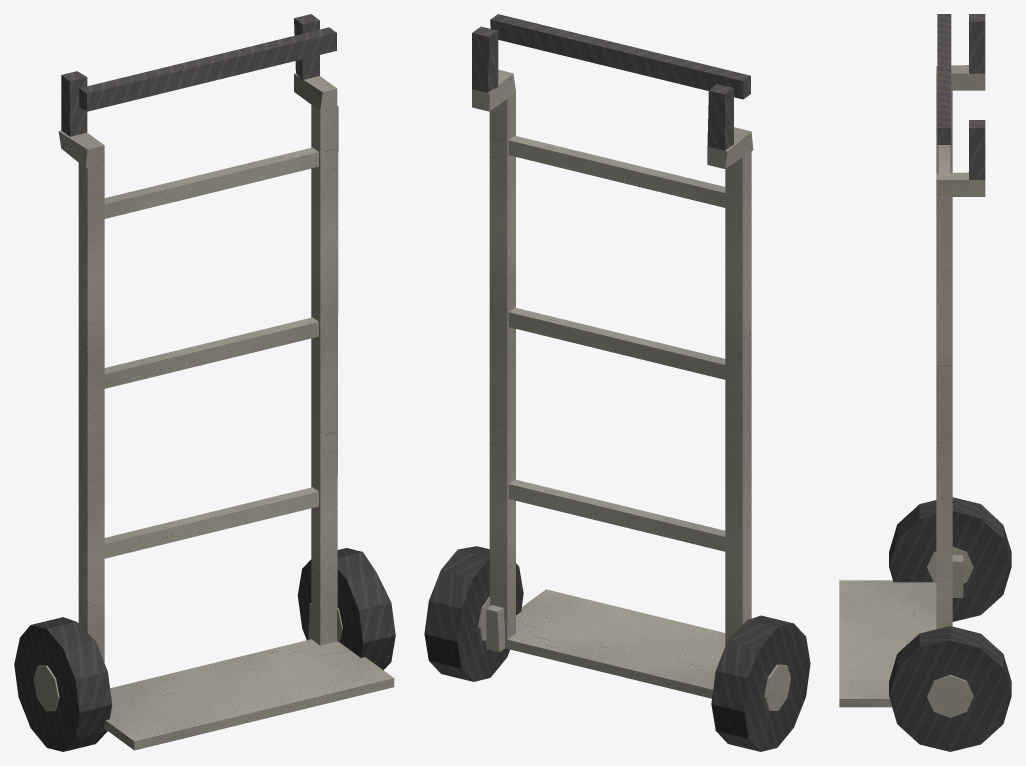
The model's file is handtruck_v2.glb.
3 renders of one model, left to right at view 1: azimuth 30°, elevation 25°; view 2: azimuth 150°, elevation 25°; view 3: azimuth 270°, elevation 25°, orthographic. The views are drawn at different scales.
Parts seen in each view (by area): view 1: Variant_handtruck_2; view 2: Variant_handtruck_2; view 3: Variant_handtruck_2.
Part boxes in pixels (x1,y1,x2,y2): Variant_handtruck_2: [14, 14, 395, 751]; Variant_handtruck_2: [424, 14, 810, 751]; Variant_handtruck_2: [839, 14, 1011, 751].
Size of the model in its own units: 0.588 by 1.15 by 0.295.
3 materials, 3 textured.
